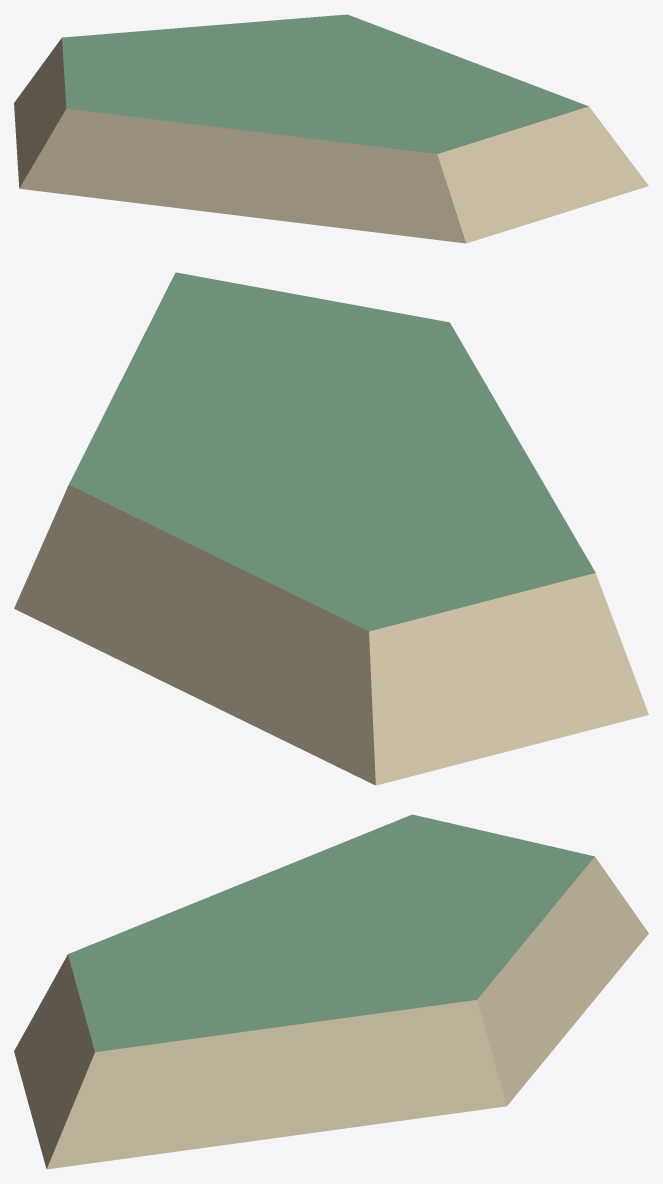
Rendered from rock_smallFlatB.glb.
3 views of the same model, one above another, from view 1: azimuth 30°, elevation 25°; view 2: azimuth 150°, elevation 25°; view 3: azimuth 270°, elevation 25° (orthographic). The views are drawn at different scales.
Parts seen in each view (by area): view 1: rock_smallFlatB; view 2: rock_smallFlatB; view 3: rock_smallFlatB.
Part boxes in pixels (x1=…): rock_smallFlatB: x1=14, y1=14, x2=648, y2=243; rock_smallFlatB: x1=14, y1=272, x2=648, y2=785; rock_smallFlatB: x1=14, y1=814, x2=648, y2=1169.
Size of the model in its own units: 0.4295 by 0.0649 by 0.4024.
